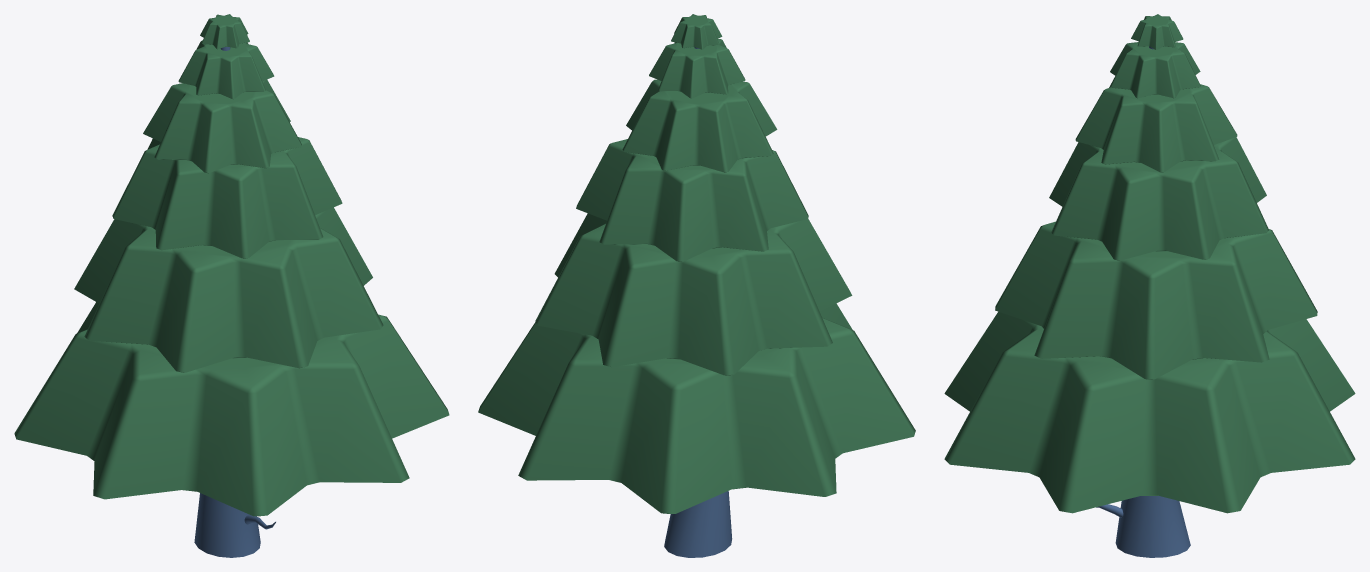
File: Piano_Tree.fbx
3 views of the same model, side by side, from view 1: azimuth 30°, elevation 25°; view 2: azimuth 150°, elevation 25°; view 3: azimuth 270°, elevation 25° (orthographic).
Visible parts, largest first — view 1: Piano_Tree; view 2: Piano_Tree; view 3: Piano_Tree.
Boxes of the visible parts, bbox=[...] form: Piano_Tree: bbox=[14, 14, 449, 557]; Piano_Tree: bbox=[478, 14, 915, 557]; Piano_Tree: bbox=[944, 14, 1355, 557].
Bounding box in the file's own units: 223 × 313 × 223.
